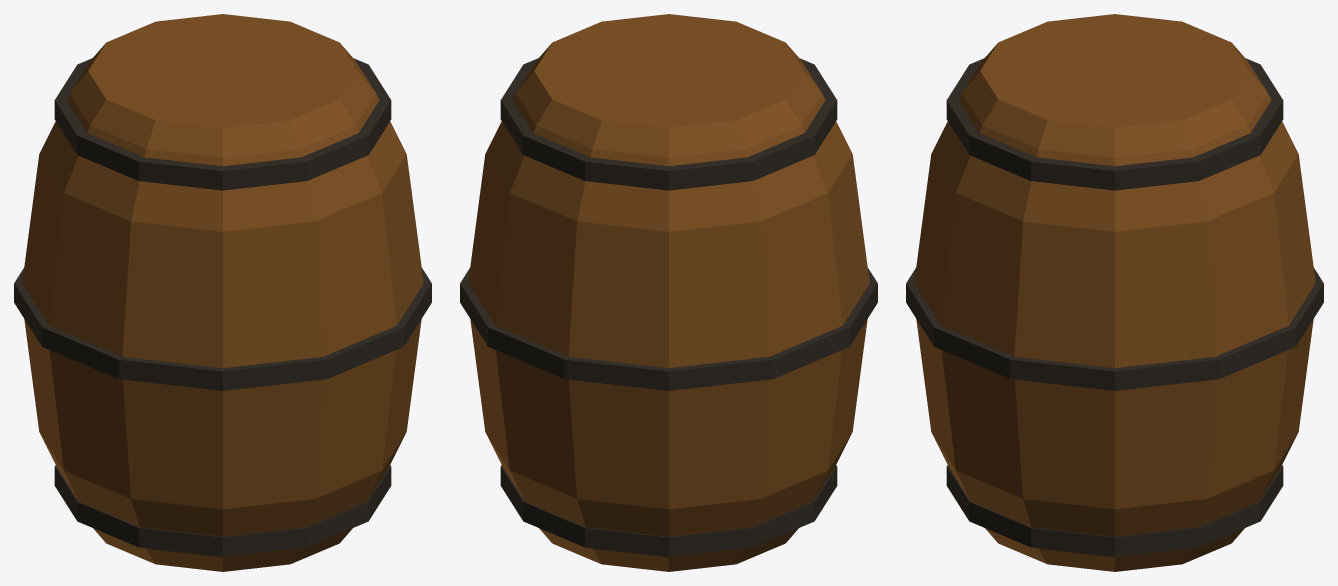
The model's file is Barrel.fbx.
The picture shows the model from 3 angles, left to right: view 1: azimuth 30°, elevation 25°; view 2: azimuth 150°, elevation 25°; view 3: azimuth 270°, elevation 25°; orthographic projection.
Visible parts, largest first — view 1: Barrel_BarrelWoodMat.001, Barrel_BarrelMetalMat.001; view 2: Barrel_BarrelWoodMat.001, Barrel_BarrelMetalMat.001; view 3: Barrel_BarrelWoodMat.001, Barrel_BarrelMetalMat.001.
Boxes of the visible parts, box(x1,y1,x2,y2) form: Barrel_BarrelWoodMat.001: box(22, 14, 423, 571); Barrel_BarrelMetalMat.001: box(14, 58, 431, 556); Barrel_BarrelWoodMat.001: box(468, 14, 869, 571); Barrel_BarrelMetalMat.001: box(460, 58, 877, 556); Barrel_BarrelWoodMat.001: box(914, 14, 1315, 571); Barrel_BarrelMetalMat.001: box(906, 58, 1323, 556).
Size of the model in its own units: 384 by 450 by 384.
